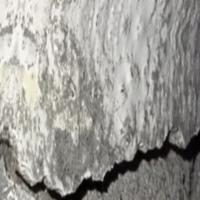crack: (0, 116, 199, 199)
